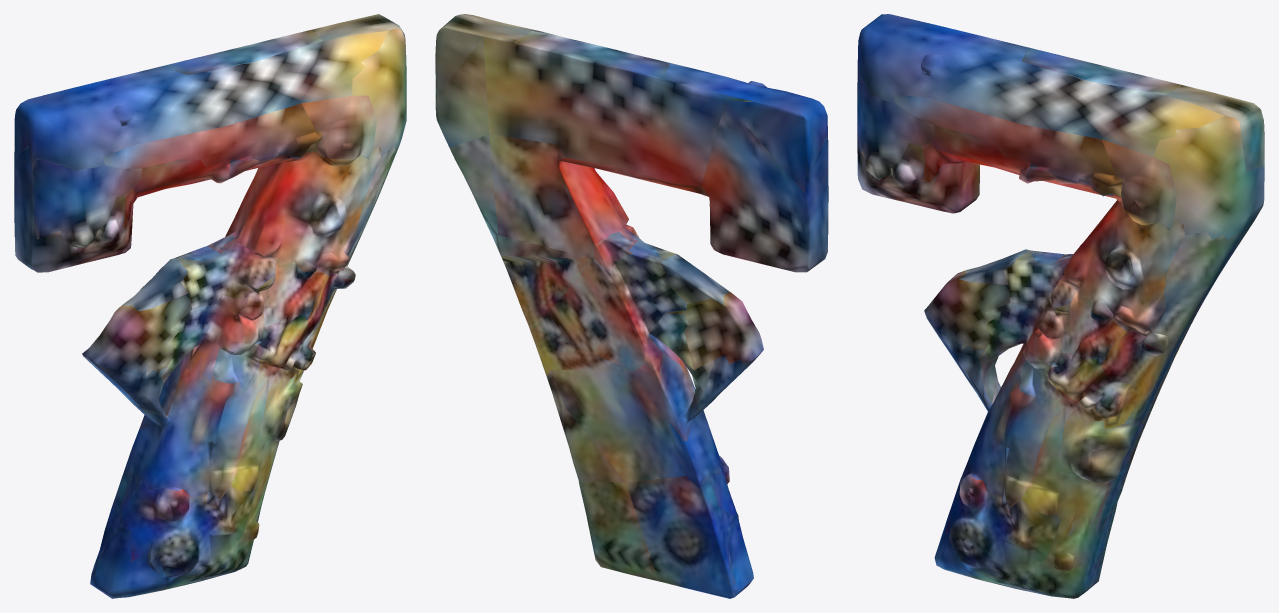
3 renders of one model, left to right at view 1: azimuth 30°, elevation 25°; view 2: azimuth 150°, elevation 25°; view 3: azimuth 330°, elevation 25°, orthographic. The views are drawn at different scales.
Bounding box in the file's own units: 0.4025 × 0.5166 × 0.0785.
Materials: 1 (1 with a texture image).
